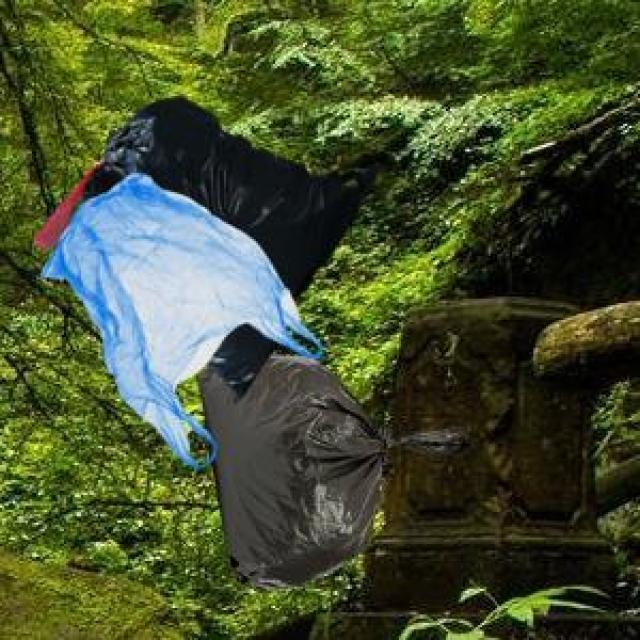miscellaneous trash: (30, 92, 373, 399), (196, 352, 469, 587)
